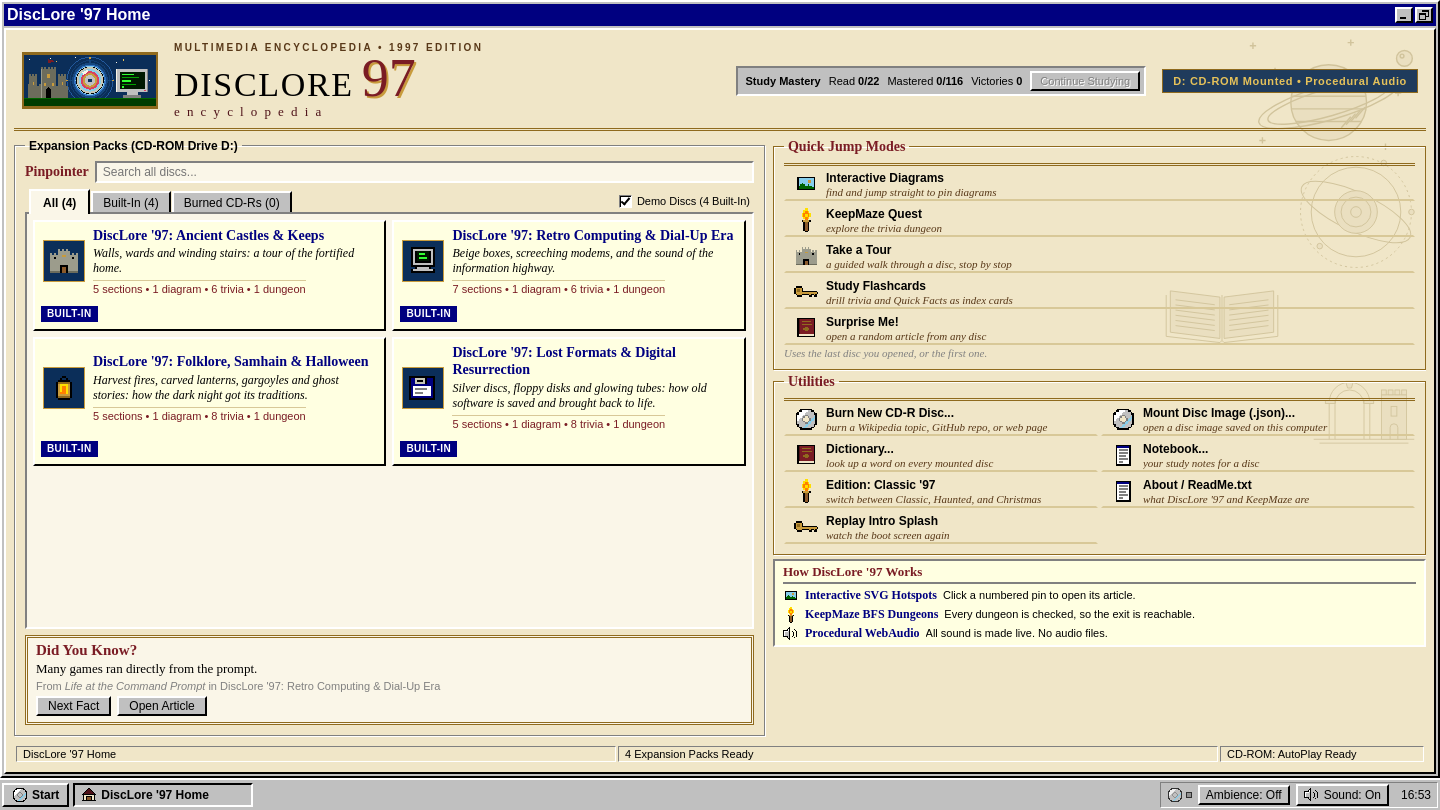
Test: a first visit › Surprise Me! can land in the last built-in disc
Click the button "Surprise Me! open a random article from any disc" at (862, 322), box [784,312,1415,345]
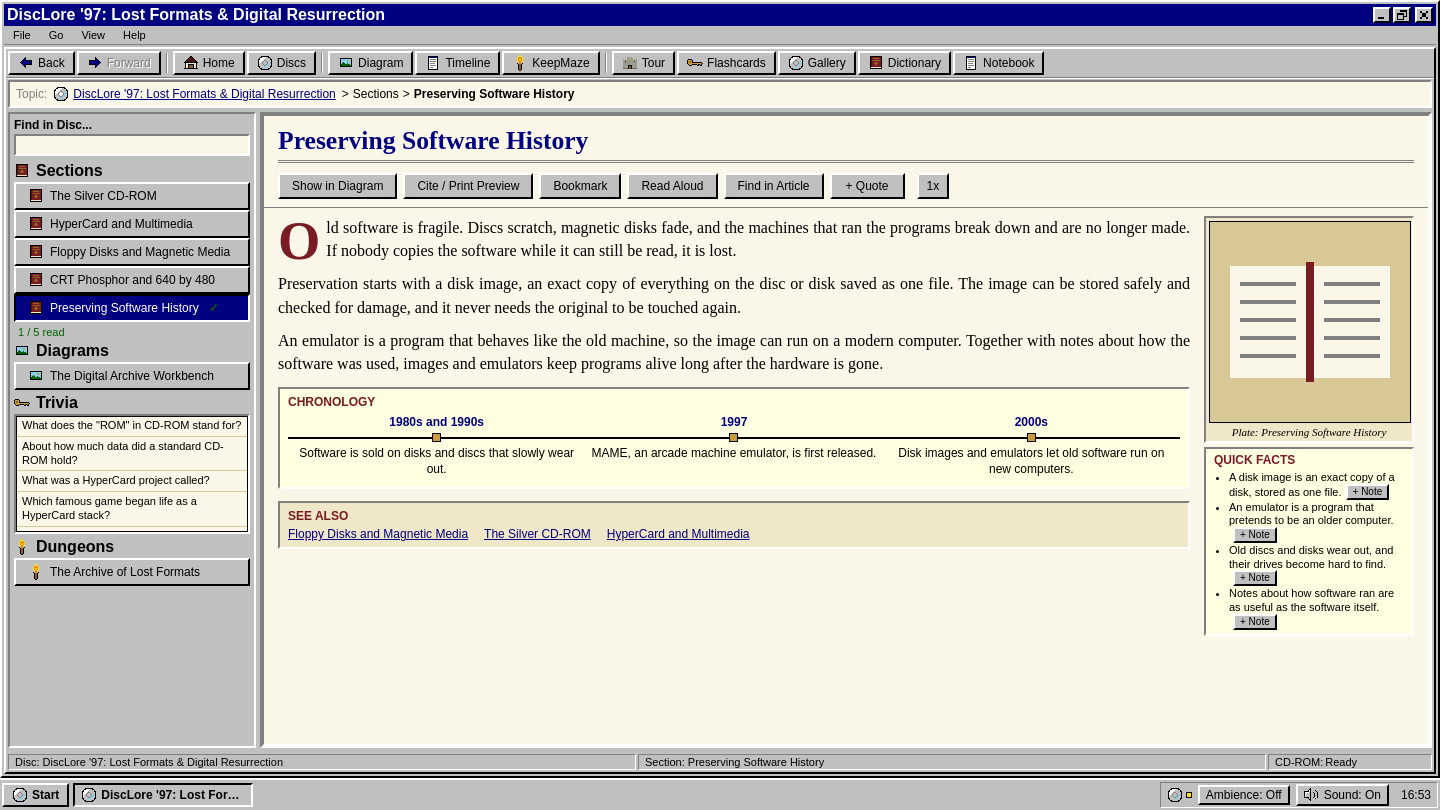
Expected: the dialog "DiscLore '97: Lost Formats & Digital Resurrection" is shown
